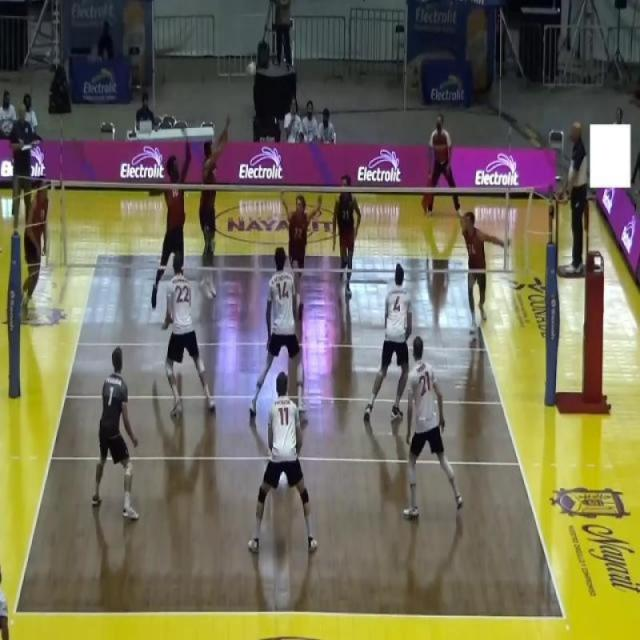volleyball: (246, 60, 256, 79)
